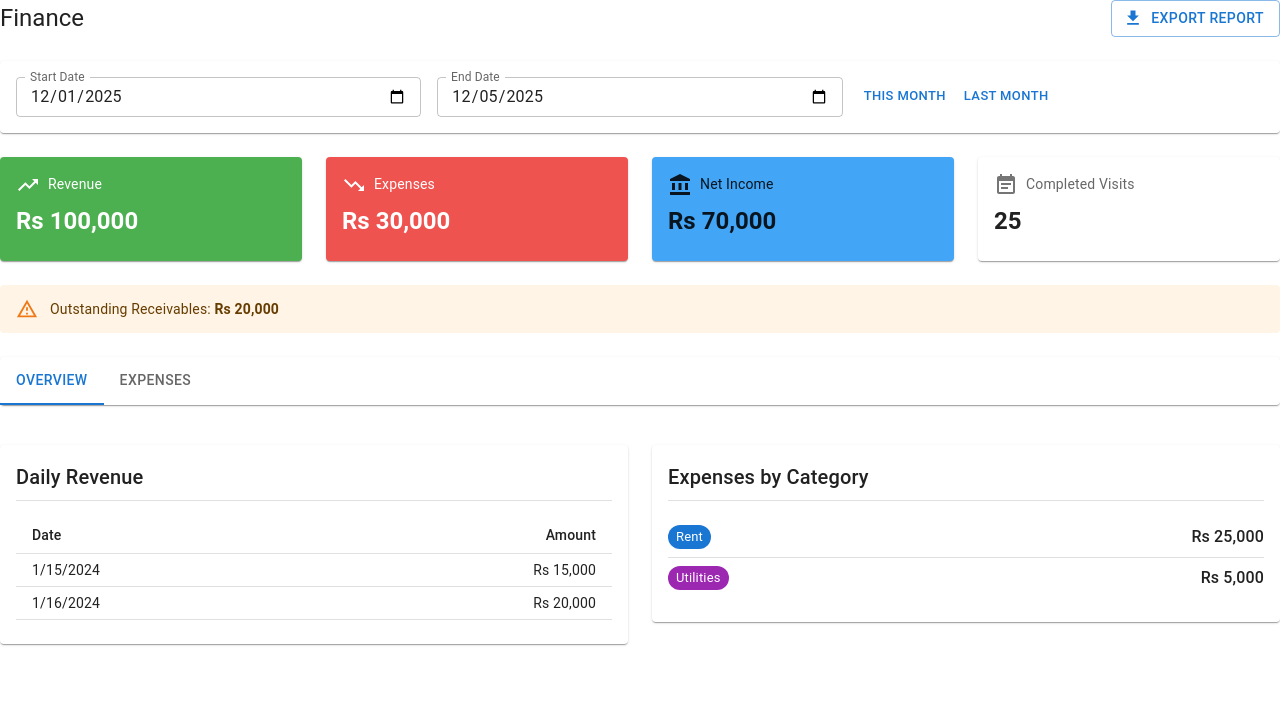
Scenario: Expense Workflow Integration Tests › Expense CRUD Operations › should show validation error when required fields are empty
Click the tab "Expenses". click: coordinates (155, 380)
box: [104, 356, 207, 404]
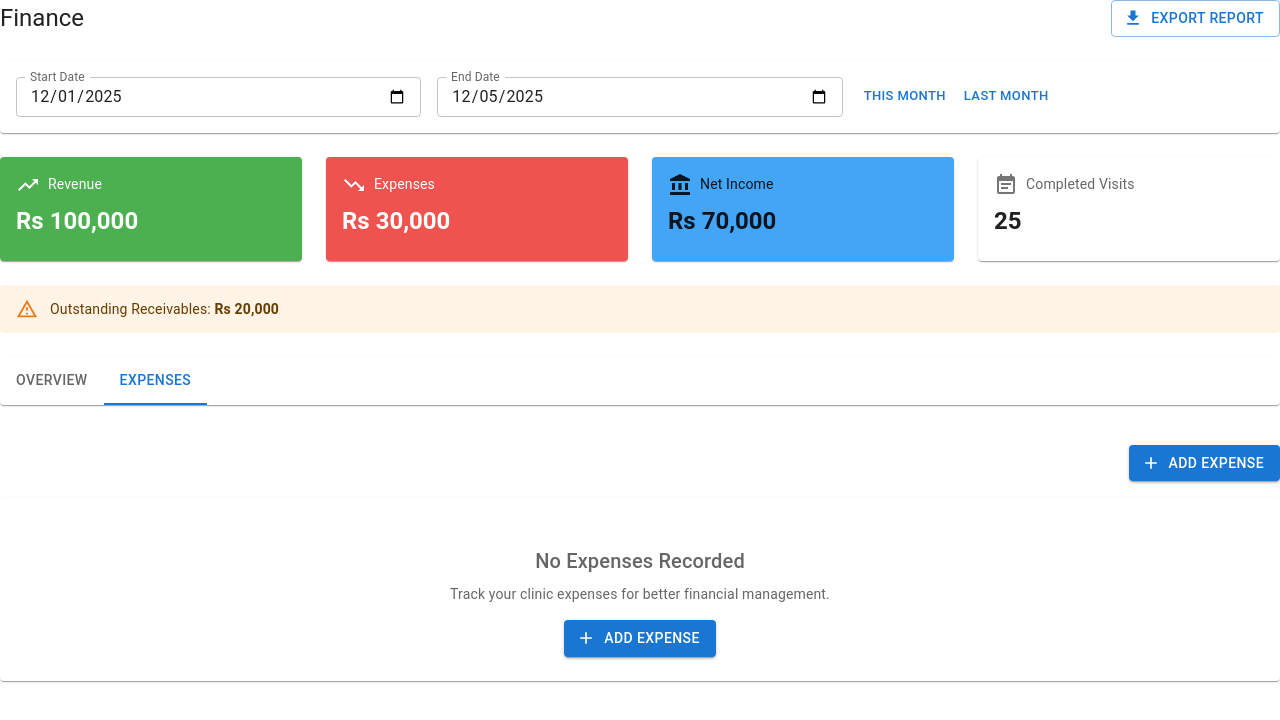
Check: the heading "No Expenses Recorded" is shown, box [535, 549, 745, 573]
Click the 1st button "Add Expense". click: coordinates (1204, 463)
box: [1128, 444, 1279, 481]
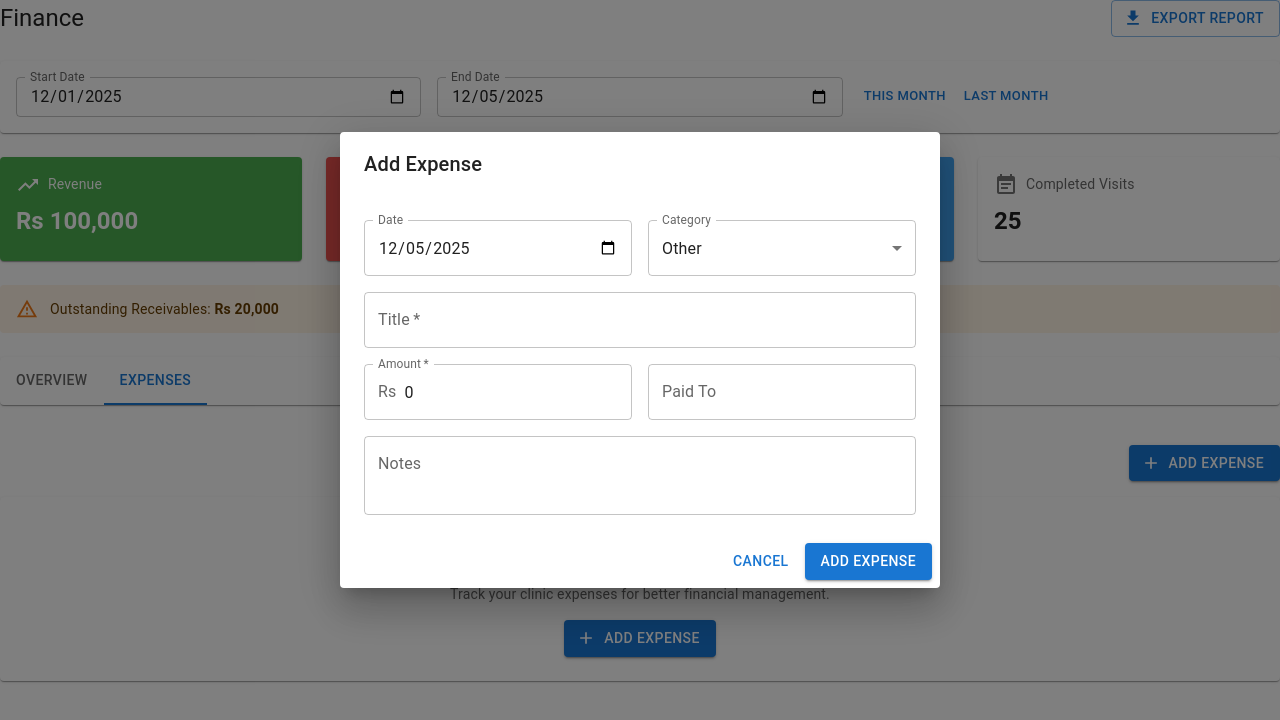
Click save without filling required fields
Click the button "Add Expense". click: coordinates (868, 562)
box: [804, 543, 932, 580]
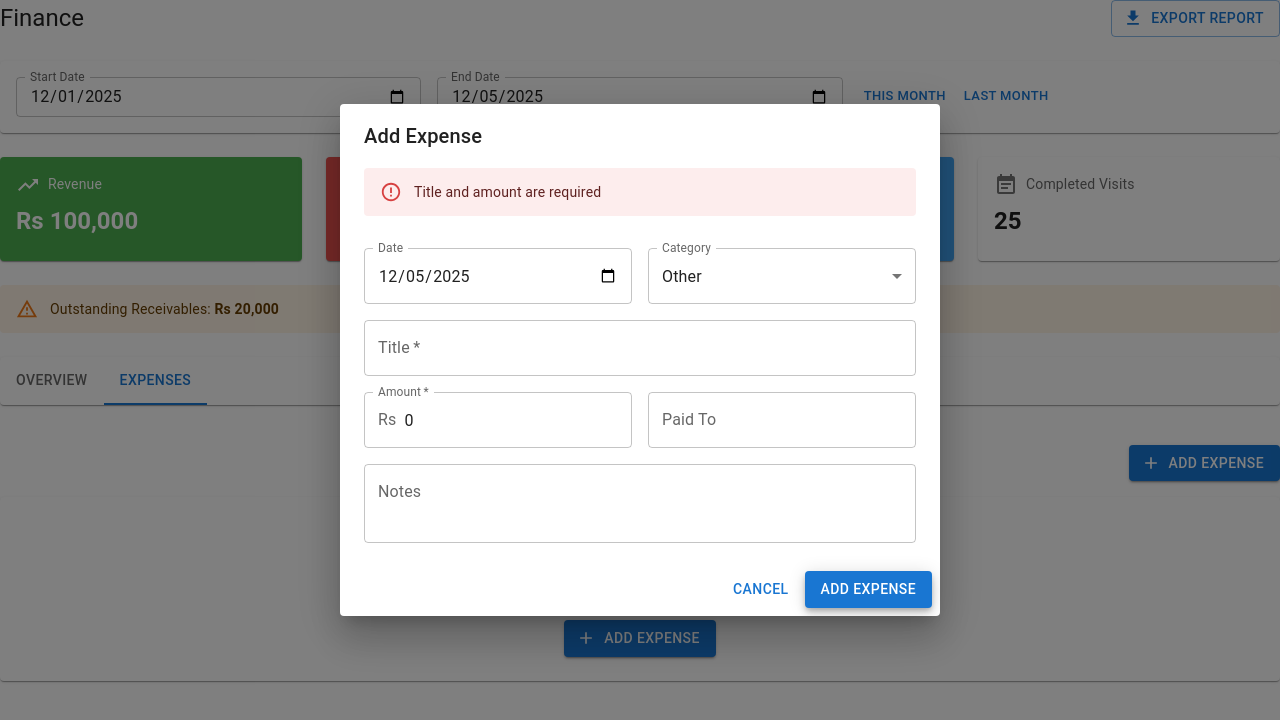
Check: the text "Title and amount are required" is shown, box [414, 184, 601, 200]
